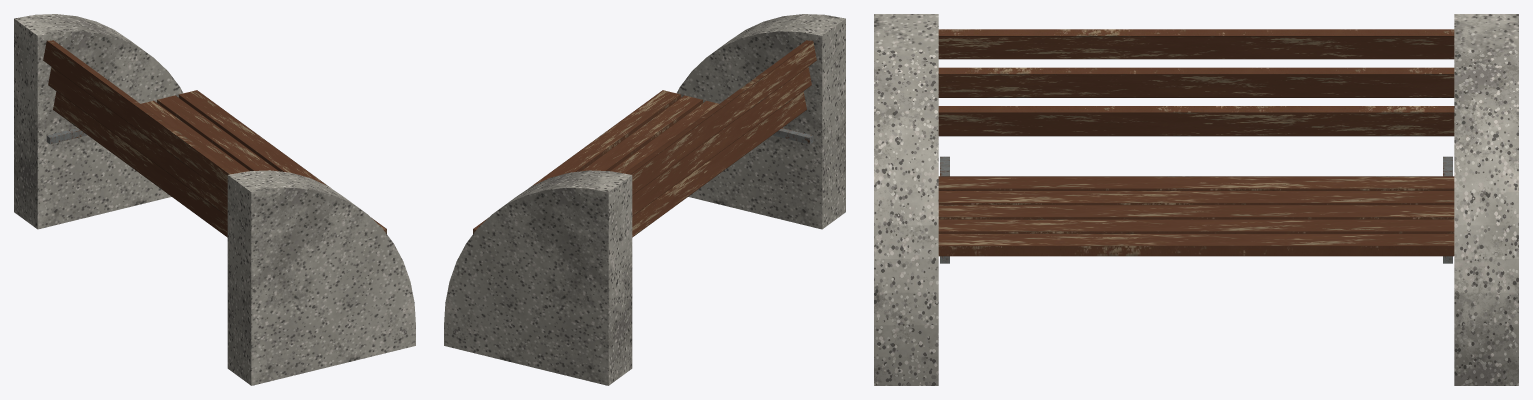
File: bench_concrete_web.glb
The picture shows the model from 3 angles, left to right: view 1: azimuth 30°, elevation 25°; view 2: azimuth 150°, elevation 25°; view 3: azimuth 270°, elevation 25°; orthographic projection. The views are drawn at different scales.
Parts seen in each view (by area): view 1: BenchConcrete_Mesh; view 2: BenchConcrete_Mesh; view 3: BenchConcrete_Mesh.
Boxes of the visible parts, x1,y1,x2,y2 form: BenchConcrete_Mesh: (14,14,415,385); BenchConcrete_Mesh: (444,14,845,385); BenchConcrete_Mesh: (874,14,1518,385).
Size of the model in its own units: 0.8 by 0.9 by 2.
3 materials, 3 textured.
